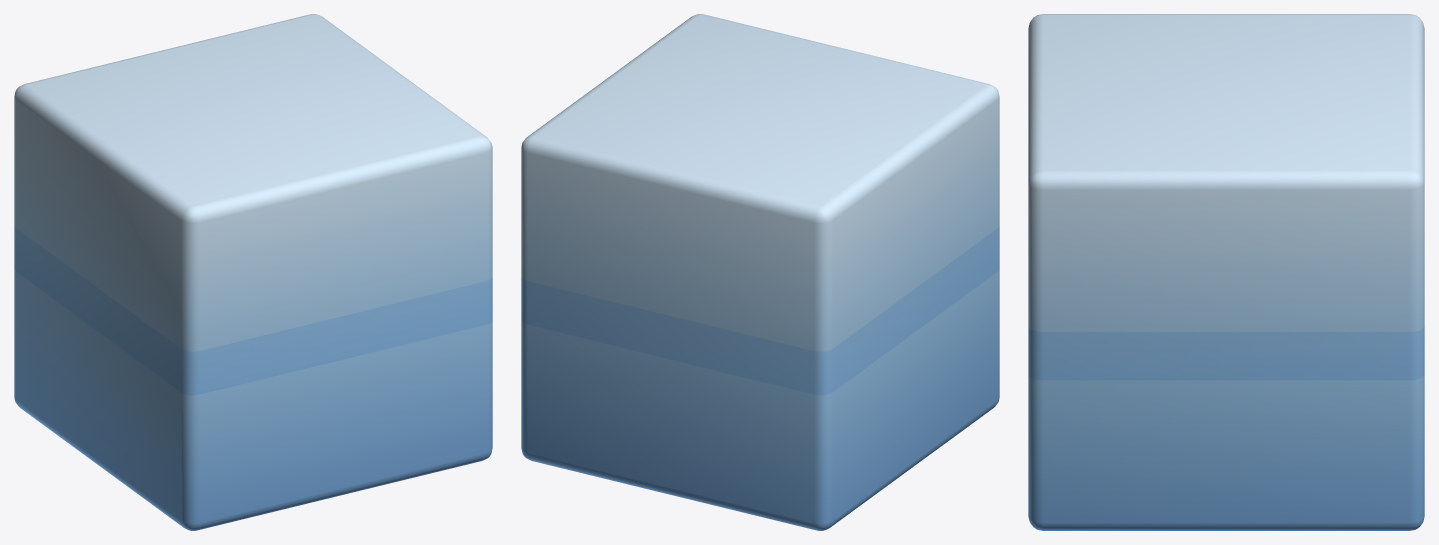
The picture shows the model from 3 angles, left to right: view 1: azimuth 30°, elevation 25°; view 2: azimuth 150°, elevation 25°; view 3: azimuth 270°, elevation 25°; orthographic projection. The views are drawn at different scales.
Parts seen in each view (by area): view 1: Cube_13; view 2: Cube_13; view 3: Cube_13.
Boxes of the visible parts, left/top/right/bottom form: Cube_13: left=14, top=14, right=492, bottom=530; Cube_13: left=521, top=14, right=999, bottom=530; Cube_13: left=1028, top=14, right=1424, bottom=530.
Bounding box in the file's own units: 2 × 2 × 2.
